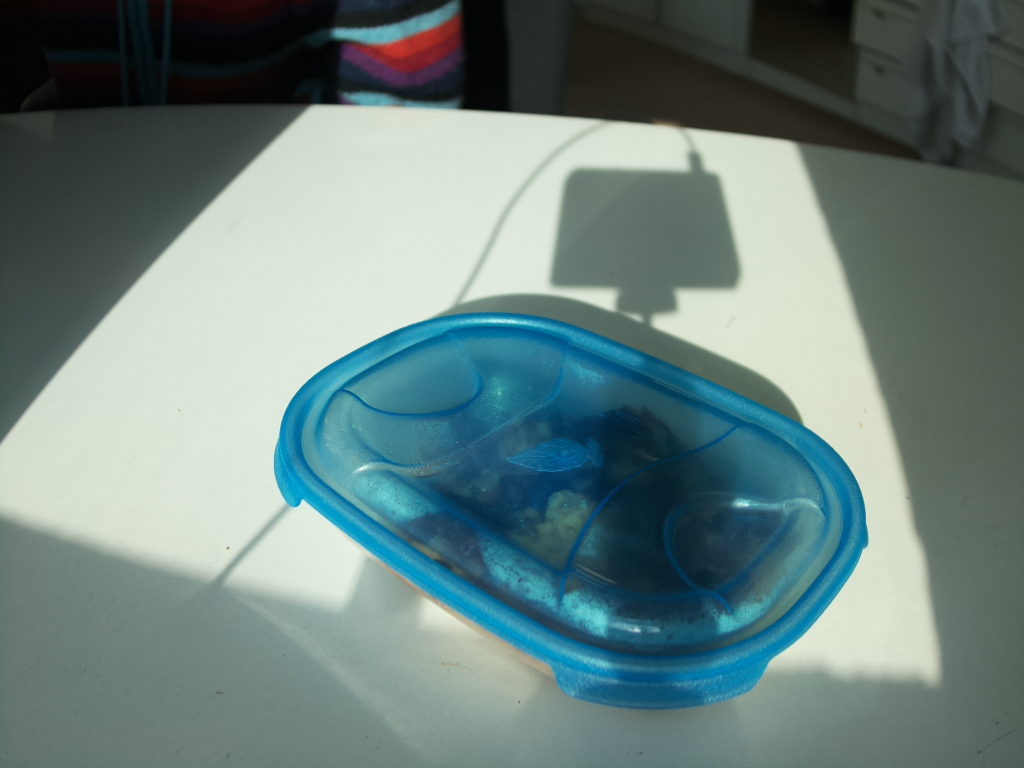leftovers: (284, 308, 873, 712)
